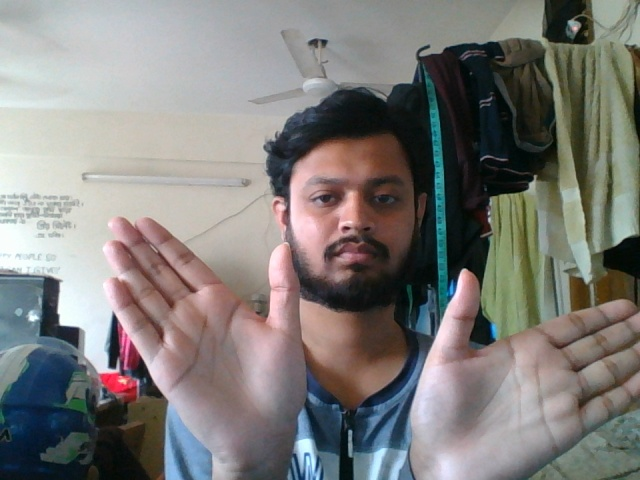naa: (85, 214, 640, 480)
